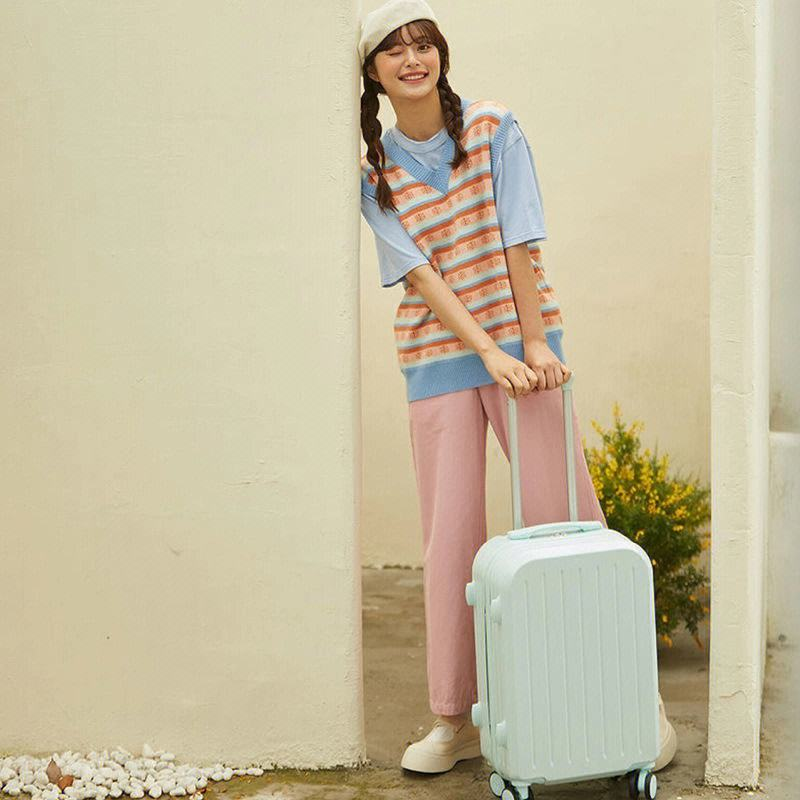box: (472, 522, 660, 787)
handle: (506, 521, 603, 540)
wheel: (628, 769, 657, 800), (487, 770, 510, 797)
